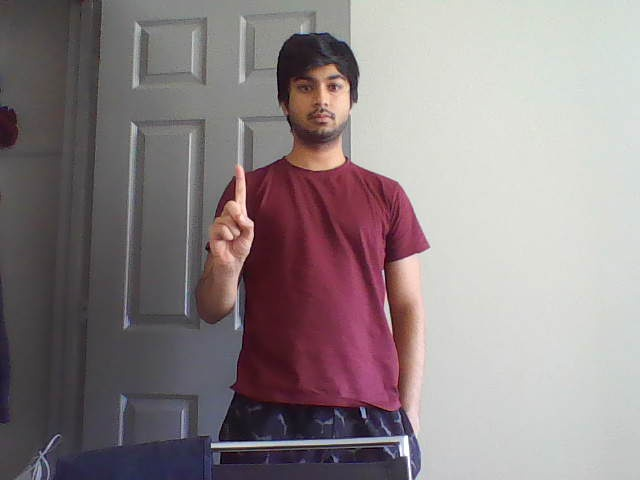one: (207, 158, 258, 236)
